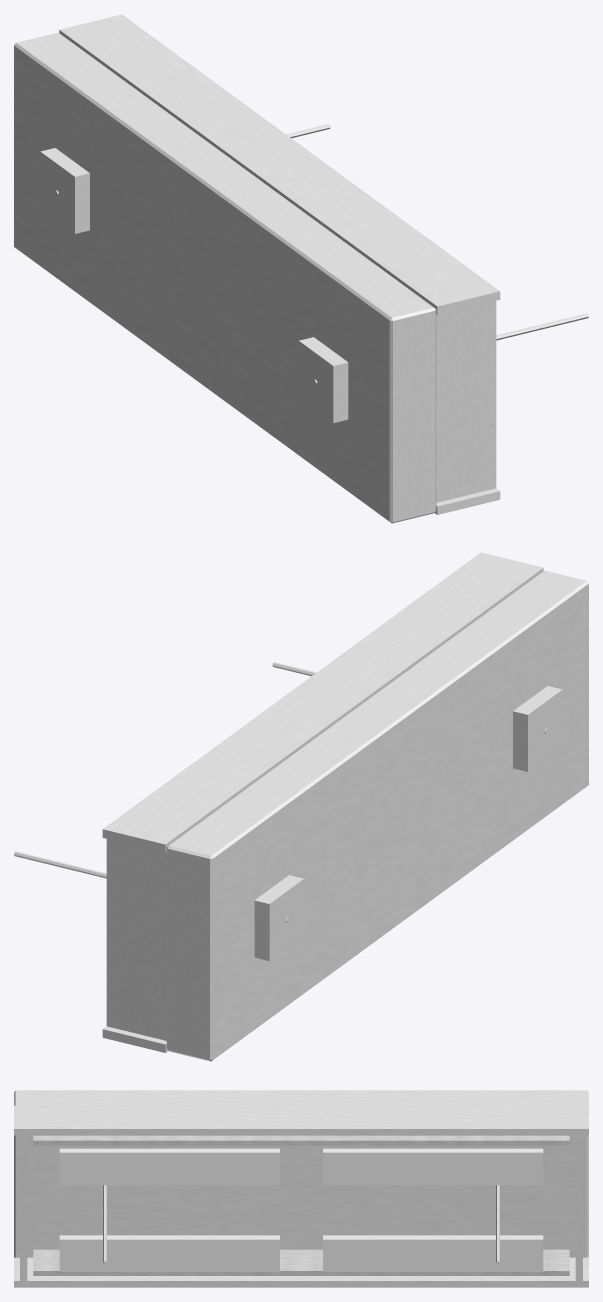
The model's file is adjustablewarehousehighbay.obj.
3 renders of one model, top to bottom at view 1: azimuth 30°, elevation 25°; view 2: azimuth 150°, elevation 25°; view 3: azimuth 270°, elevation 25°, orthographic. The views are drawn at different scales.
Parts seen in each view (by area): view 1: Metal, Base, Suspension; view 2: Metal, Base, Suspension; view 3: Metal, Trim, Light2, Light3, Light0, Light1, Suspension.
Boxes of the visible parts, x1,y1,x2,y2 form: Metal: [14, 14, 500, 523]; Base: [40, 148, 348, 422]; Suspension: [55, 124, 588, 384]; Metal: [102, 552, 588, 1061]; Base: [254, 686, 562, 960]; Suspension: [14, 662, 547, 922]; Metal: [14, 1090, 588, 1287]; Trim: [33, 1135, 569, 1275]; Light2: [323, 1148, 543, 1185]; Light3: [59, 1148, 279, 1185]; Light0: [323, 1235, 543, 1271]; Light1: [59, 1235, 279, 1271]; Suspension: [103, 1185, 499, 1264].
Bounding box in the file's own units: 1 × 0.73 × 2.4.
